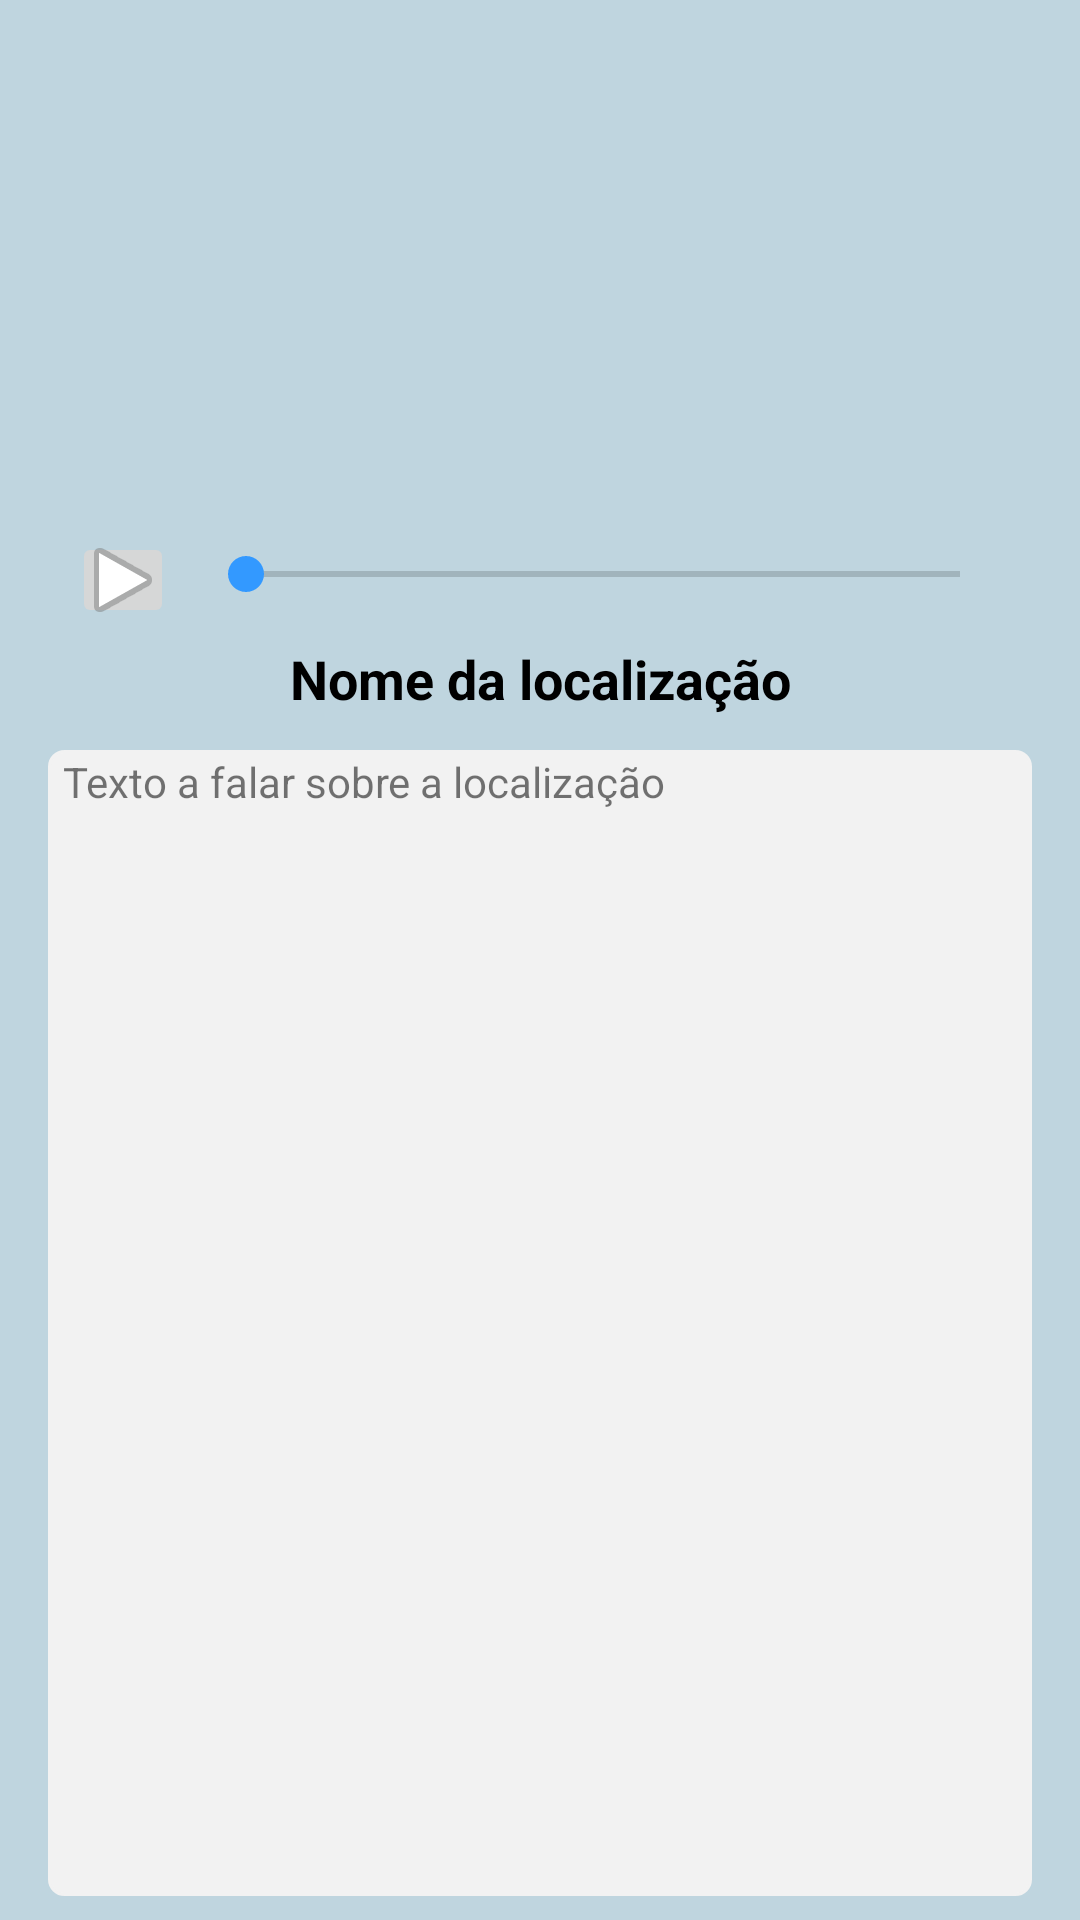

Named icons in this screenshot (1080 x 1920) and their bounding boxes, (x1, y1, x2, y2):
play: (94, 548, 152, 612)
